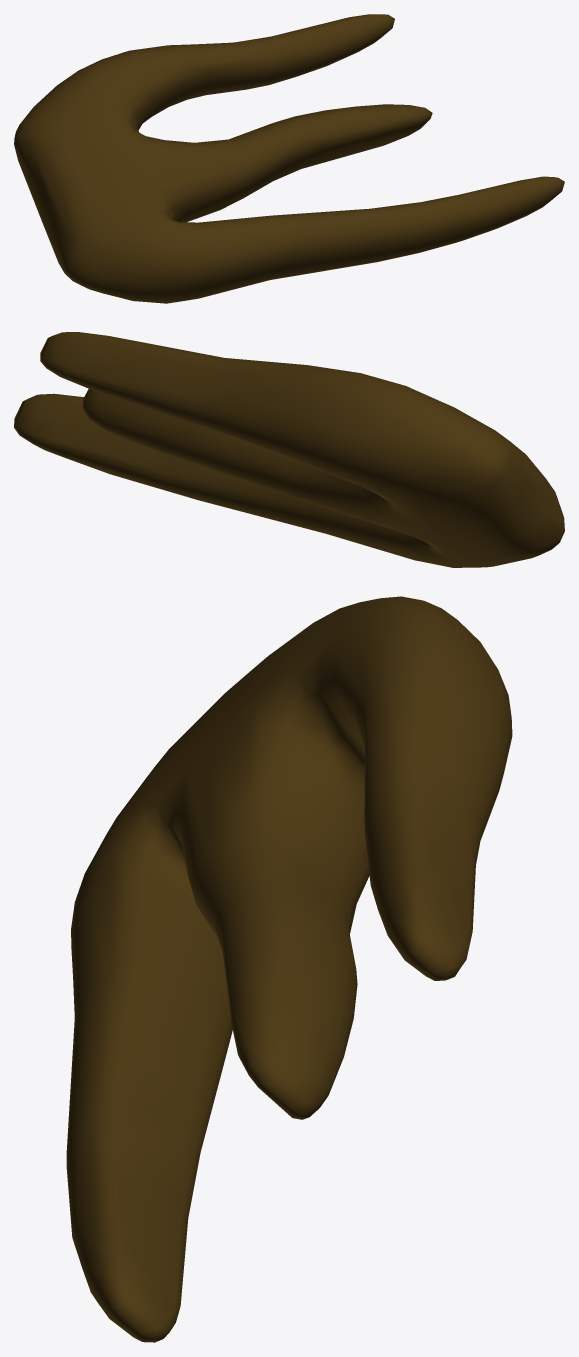
Rendered from Raiz Ancestral.fbx.
The picture shows the model from 3 angles, top to bottom: view 1: azimuth 30°, elevation 25°; view 2: azimuth 150°, elevation 25°; view 3: azimuth 270°, elevation 25°; orthographic projection. The views are drawn at different scales.
Visible parts, largest first — view 1: Raiz Ancestral - Low; view 2: Raiz Ancestral - Low; view 3: Raiz Ancestral - Low.
Part boxes in pixels (x1,y1,x2,y2): Raiz Ancestral - Low: (14,14,564,303); Raiz Ancestral - Low: (14,332,564,567); Raiz Ancestral - Low: (66,596,512,1342).
Bounding box in the file's own units: 210 × 83.34 × 83.74.
